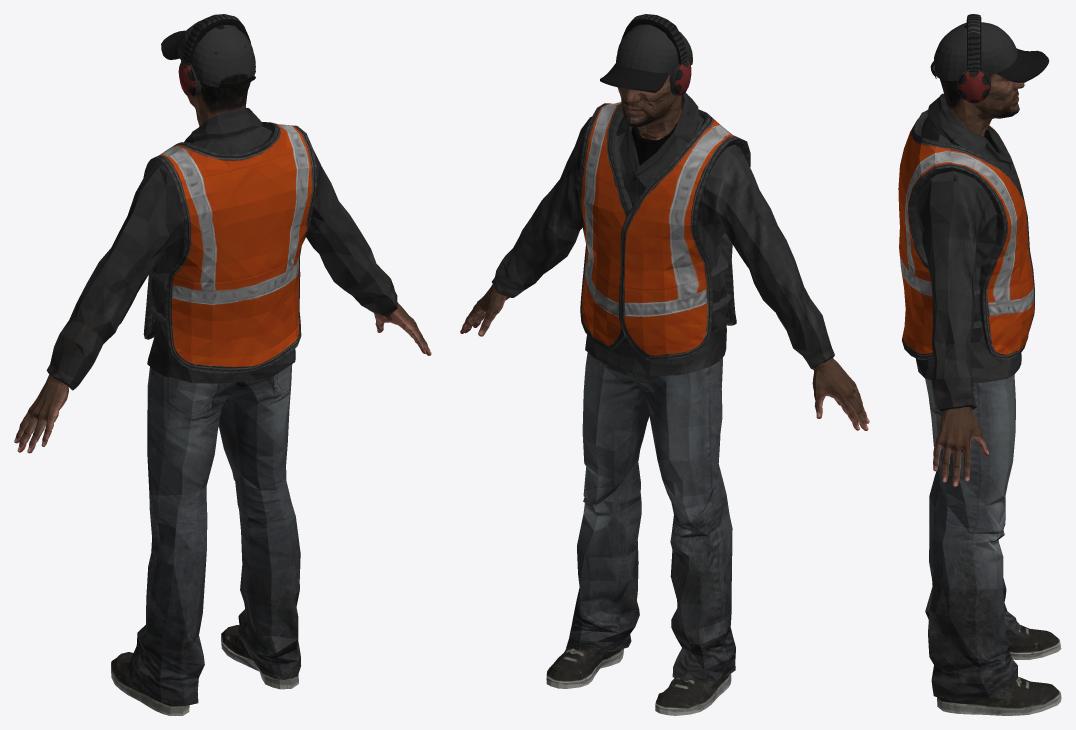
Rendered from worker1.dae.
The picture shows the model from 3 angles, left to right: view 1: azimuth 30°, elevation 25°; view 2: azimuth 150°, elevation 25°; view 3: azimuth 270°, elevation 25°; orthographic projection.
Parts seen in each view (by area): view 1: Skin_Mesh; view 2: Skin_Mesh; view 3: Skin_Mesh.
Boxes of the visible parts, left/top/right/bottom form: Skin_Mesh: left=14, top=14, right=431, bottom=715; Skin_Mesh: left=460, top=14, right=869, bottom=715; Skin_Mesh: left=898, top=14, right=1061, bottom=715.
Bounding box in the file's own units: 1.21 × 0.4222 × 1.9.
9 materials, 9 textured.
